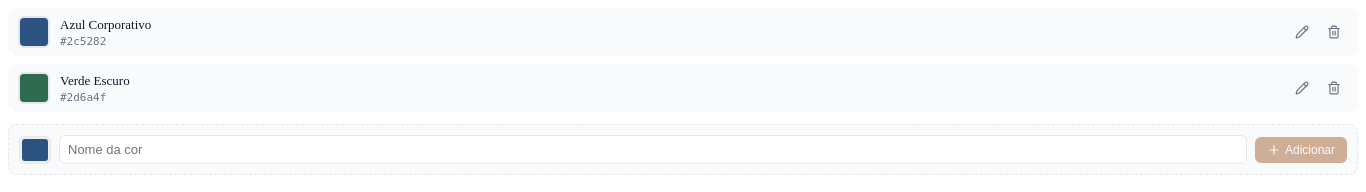
ColorGroupManager › edit › enters edit mode on click
Click the button with test id "edit-btn" in the row of "Azul Corporativo" at (1302, 32), box [1288,18,1316,46]
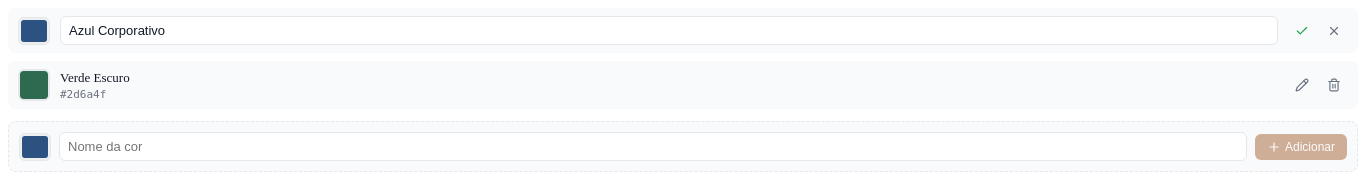
Expected: the field with test id "edit-name-input" is shown, [60,16,1278,45]
